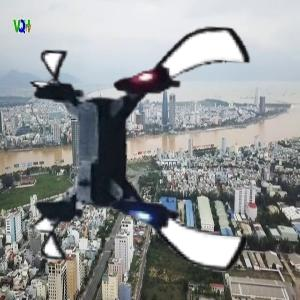drone: (20, 21, 270, 271)
